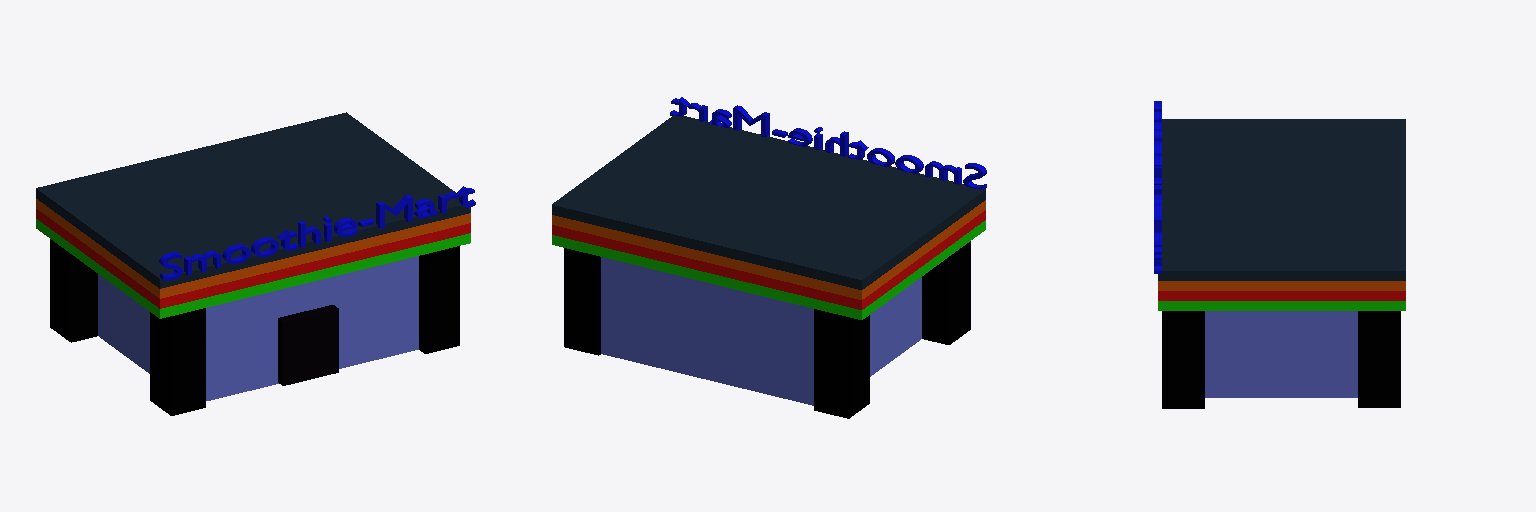
File: market.obj
3 views of the same model, side by side, from view 1: azimuth 30°, elevation 25°; view 2: azimuth 150°, elevation 25°; view 3: azimuth 270°, elevation 25° (orthographic).
Parts seen in each view (by area): view 1: Cube.001, Cube, Cube.005, Text, door, Cube.003, Cube.004; view 2: Cube.001, Cube, Cube.004, Text, Cube.005, Cube.002; view 3: Cube.001, Cube, Cube.003, Cube.002, Text.
Part boxes in pixels (left/top/right/bottom): Cube.001: left=36, top=112, right=470, bottom=318; Cube: left=98, top=256, right=418, bottom=400; Cube.005: left=150, top=308, right=205, bottom=415; Text: left=159, top=186, right=475, bottom=280; door: left=278, top=305, right=338, bottom=385; Cube.003: left=419, top=246, right=459, bottom=353; Cube.004: left=50, top=239, right=97, bottom=342; Cube.001: left=552, top=115, right=985, bottom=319; Cube: left=601, top=257, right=921, bottom=405; Cube.004: left=814, top=309, right=869, bottom=418; Text: left=670, top=97, right=986, bottom=189; Cube.005: left=922, top=241, right=970, bottom=344; Cube.002: left=564, top=248, right=600, bottom=355; Cube.001: left=1158, top=119, right=1405, bottom=310; Cube: left=1205, top=311, right=1357, bottom=397; Cube.003: left=1162, top=311, right=1204, bottom=408; Cube.002: left=1358, top=311, right=1400, bottom=407; Text: left=1154, top=101, right=1161, bottom=273.
Size of the model in its own units: 13.04 by 6.51 by 9.06.